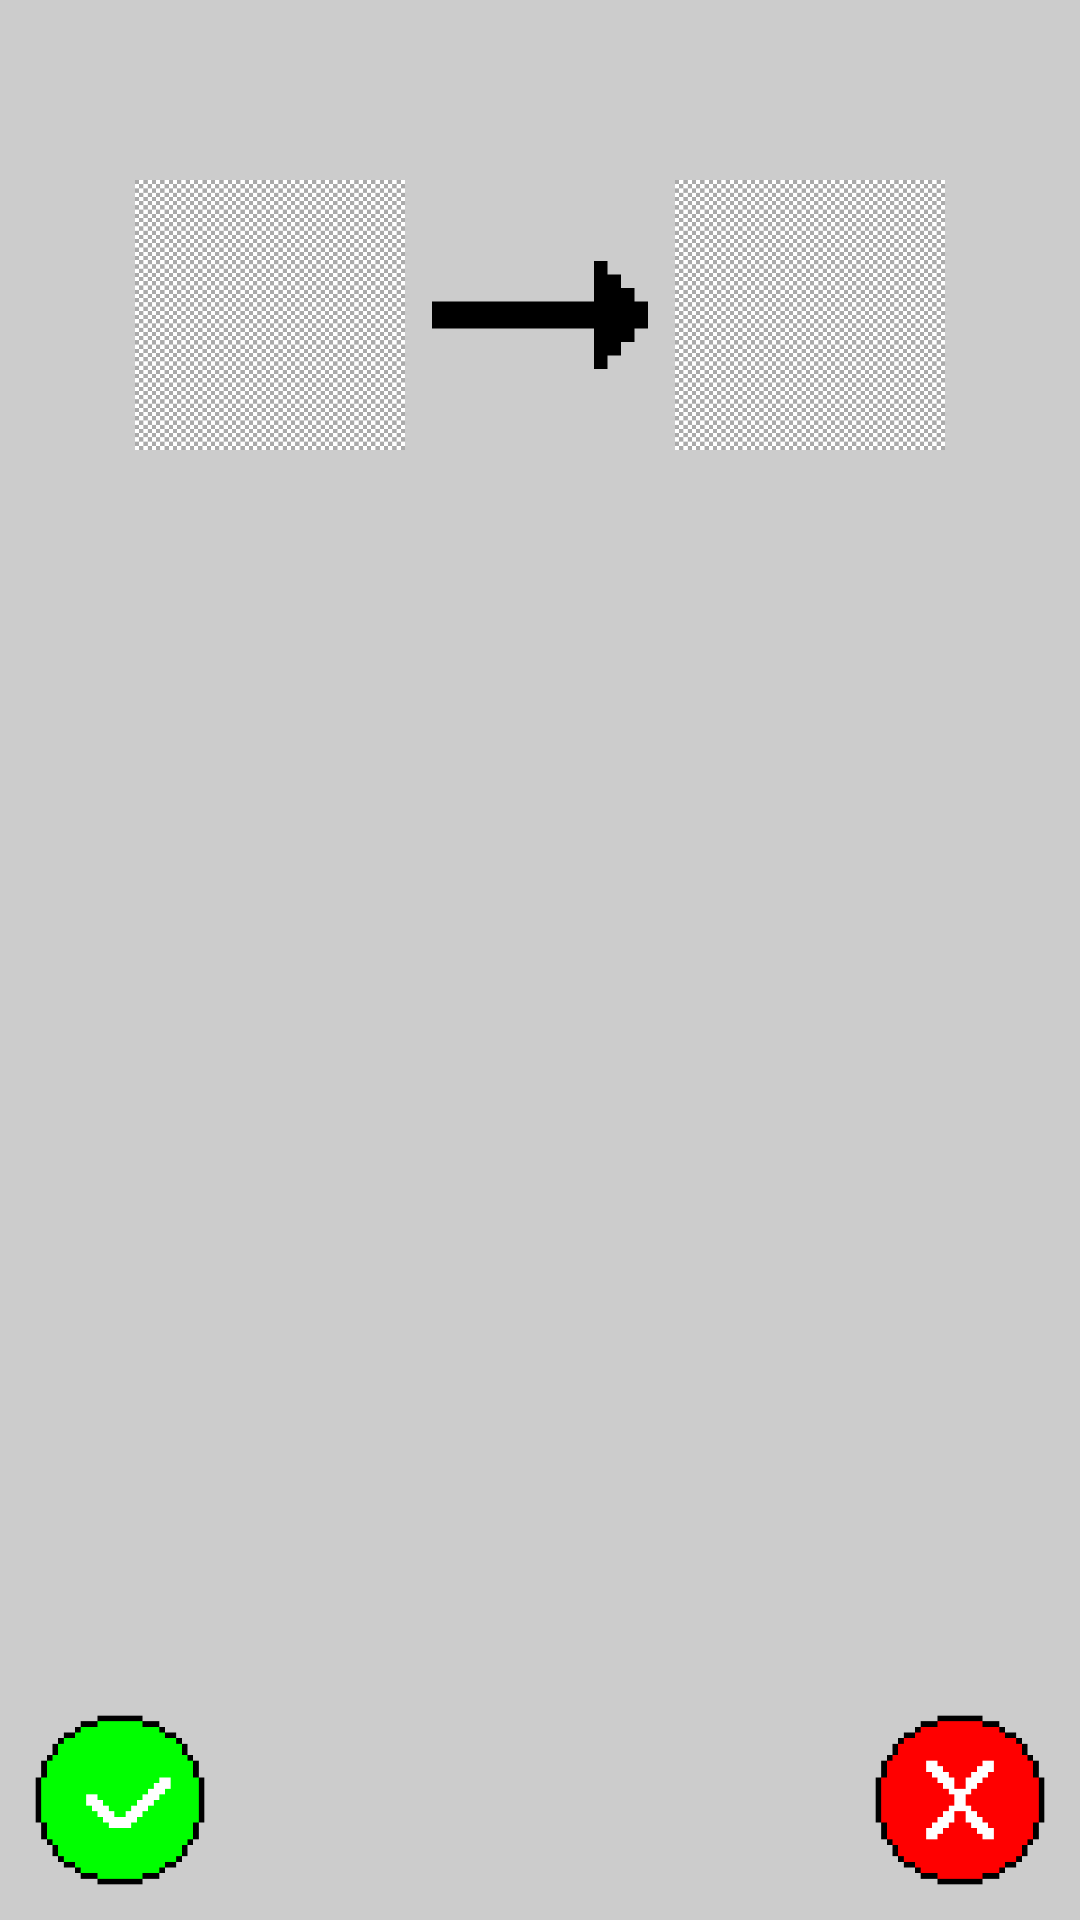

Where to tap for icons on this 1080px x 1920px app screen, as (x=x, y=y):
arrow right: (x=540, y=315)
close: (x=960, y=1800)
confirm: (x=120, y=1800)
